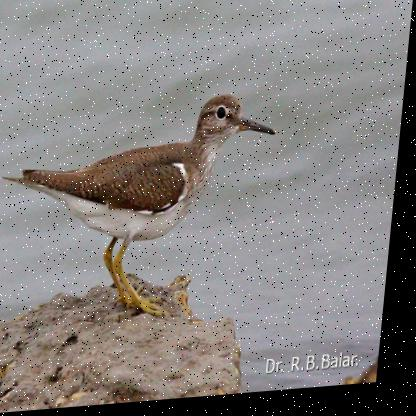Burung: (0, 86, 285, 331)
